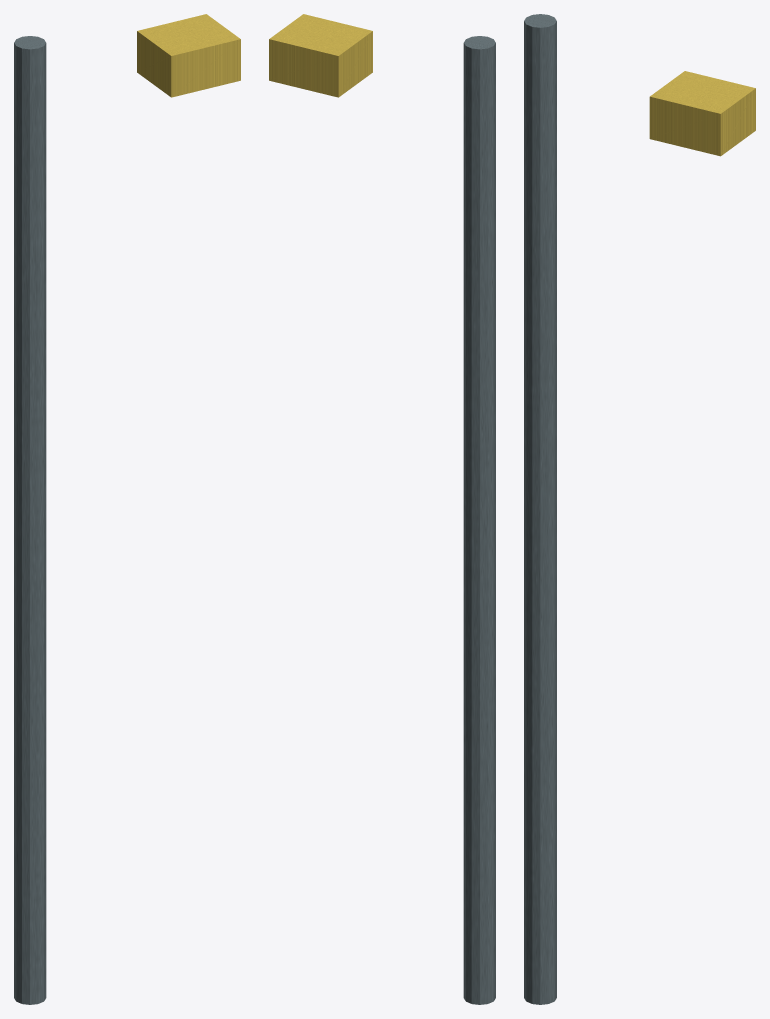
The model's file is lamp_post_lod2.glb.
3 views of the same model, side by side, from view 1: azimuth 30°, elevation 25°; view 2: azimuth 150°, elevation 25°; view 3: azimuth 330°, elevation 25° (orthographic). The views are drawn at different scales.
Parts seen in each view (by area): view 1: world; view 2: world; view 3: world.
Part boxes in pixels (bbox=[...]): world: bbox=[14, 14, 240, 1004]; world: bbox=[269, 14, 495, 1004]; world: bbox=[524, 14, 755, 1004].
Size of the model in its own units: 1.05 by 4.6 by 0.3.
Materials: 2 (2 with a texture image).
